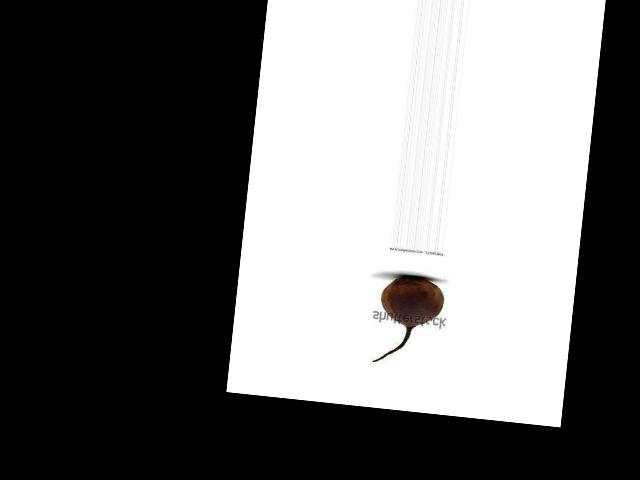beet: (373, 272, 447, 369)
